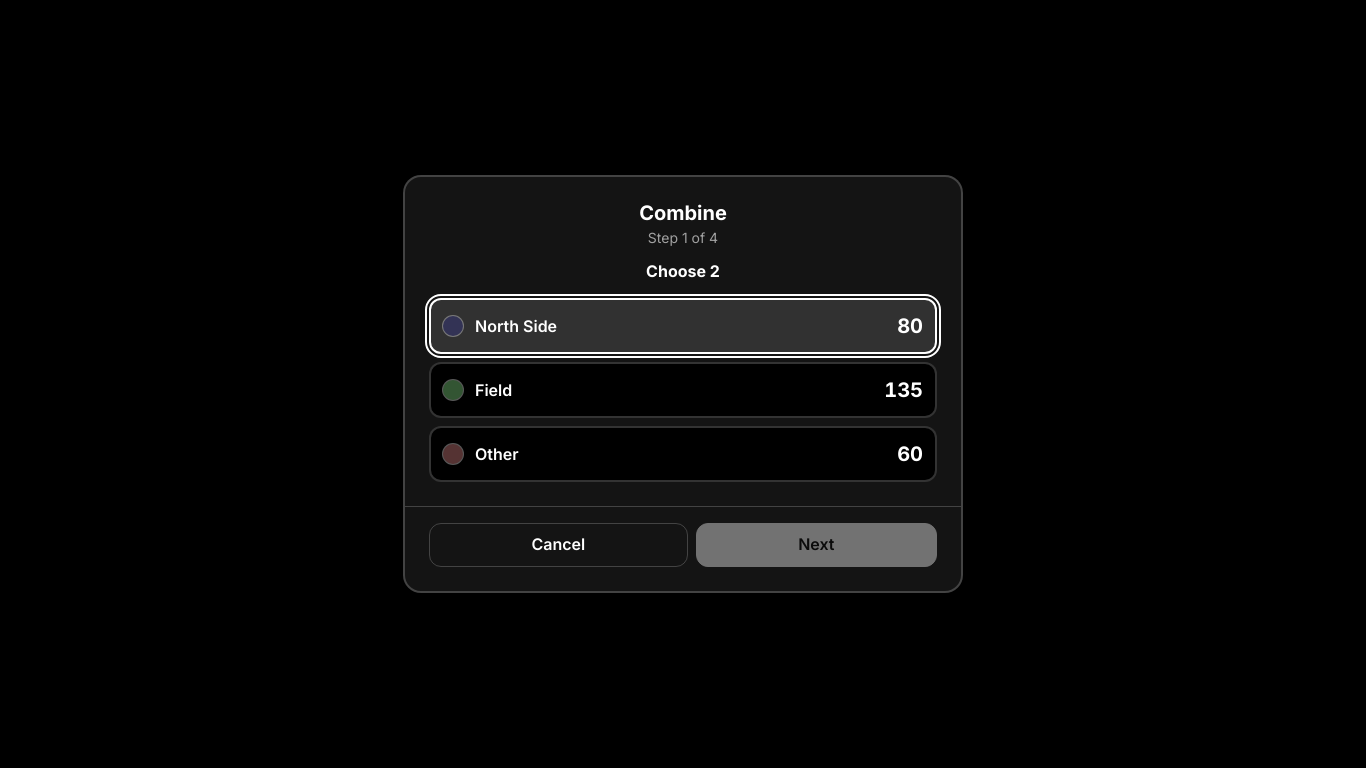
Test case: CombineEntriesSheet › names the target with the sources as its lineage, in order, and swaps the source order
Click the button "Field 135" at point(494, 390), box [429, 362, 937, 418]
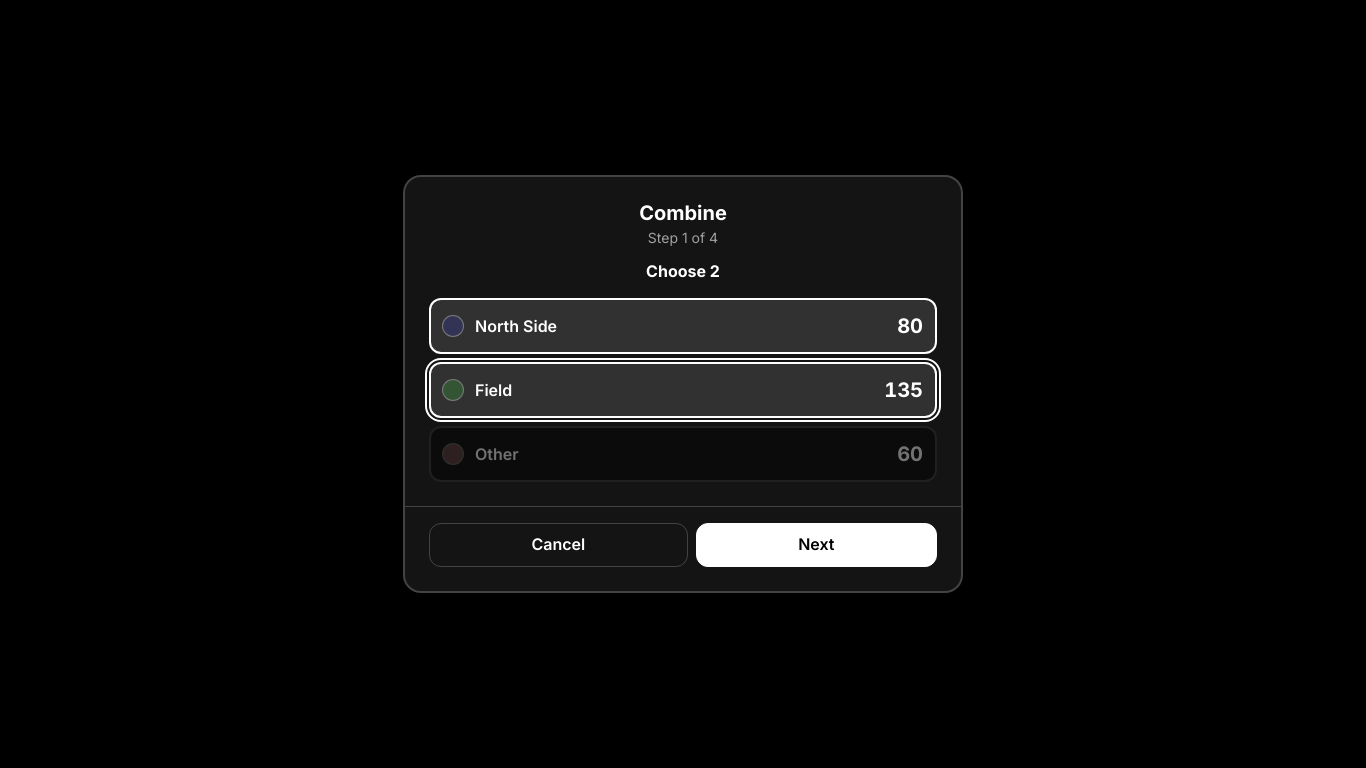
Click the button "Next" at point(816, 545), box [696, 523, 937, 567]
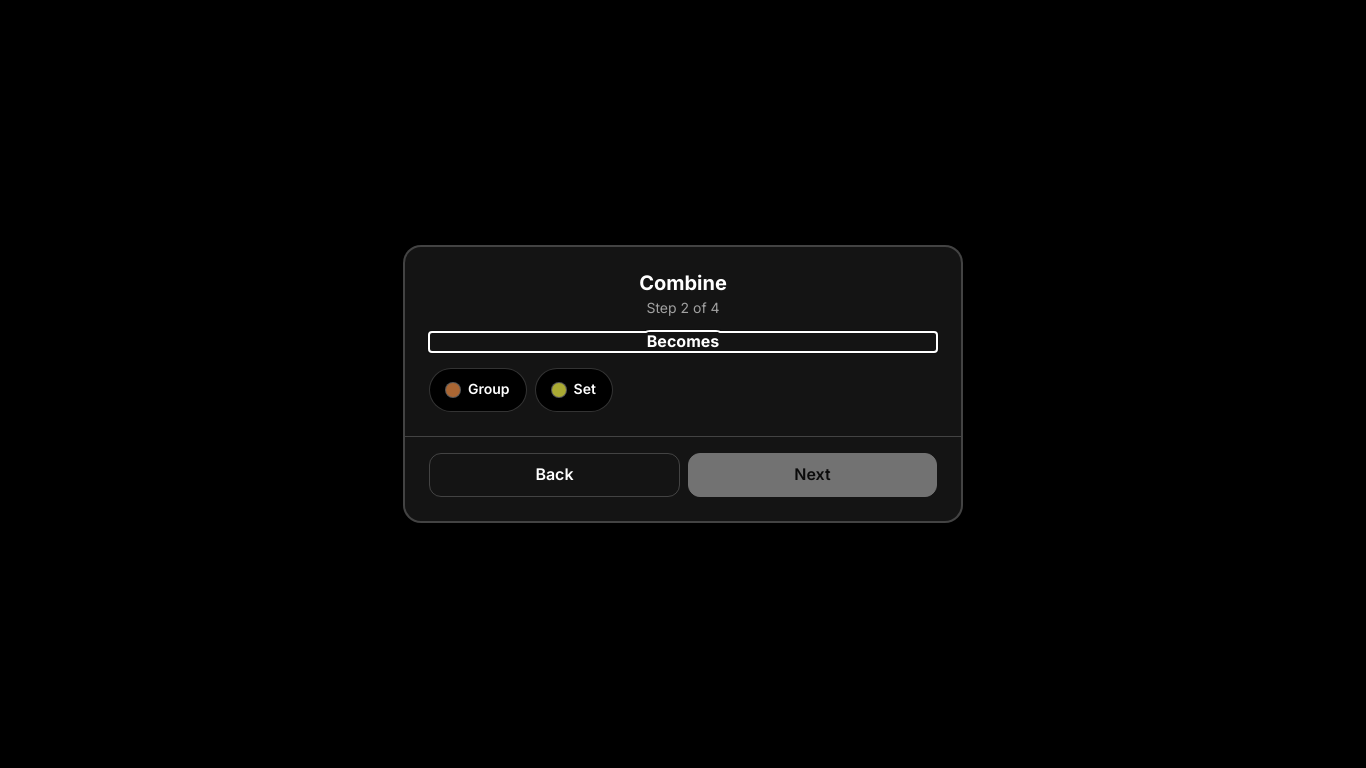
Click the button "Group" at point(478, 390), box [429, 368, 527, 412]
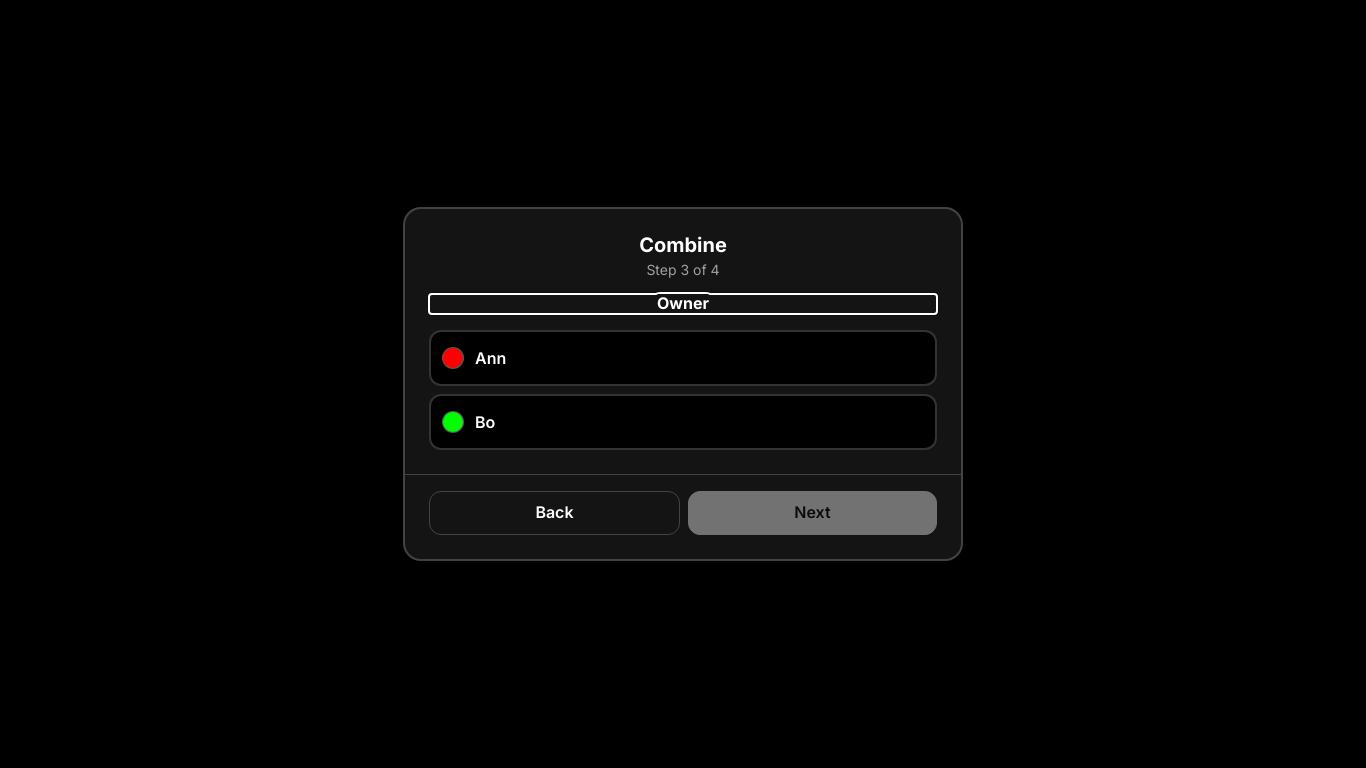
Click the button "Ann" at point(491, 358), box [429, 330, 937, 386]
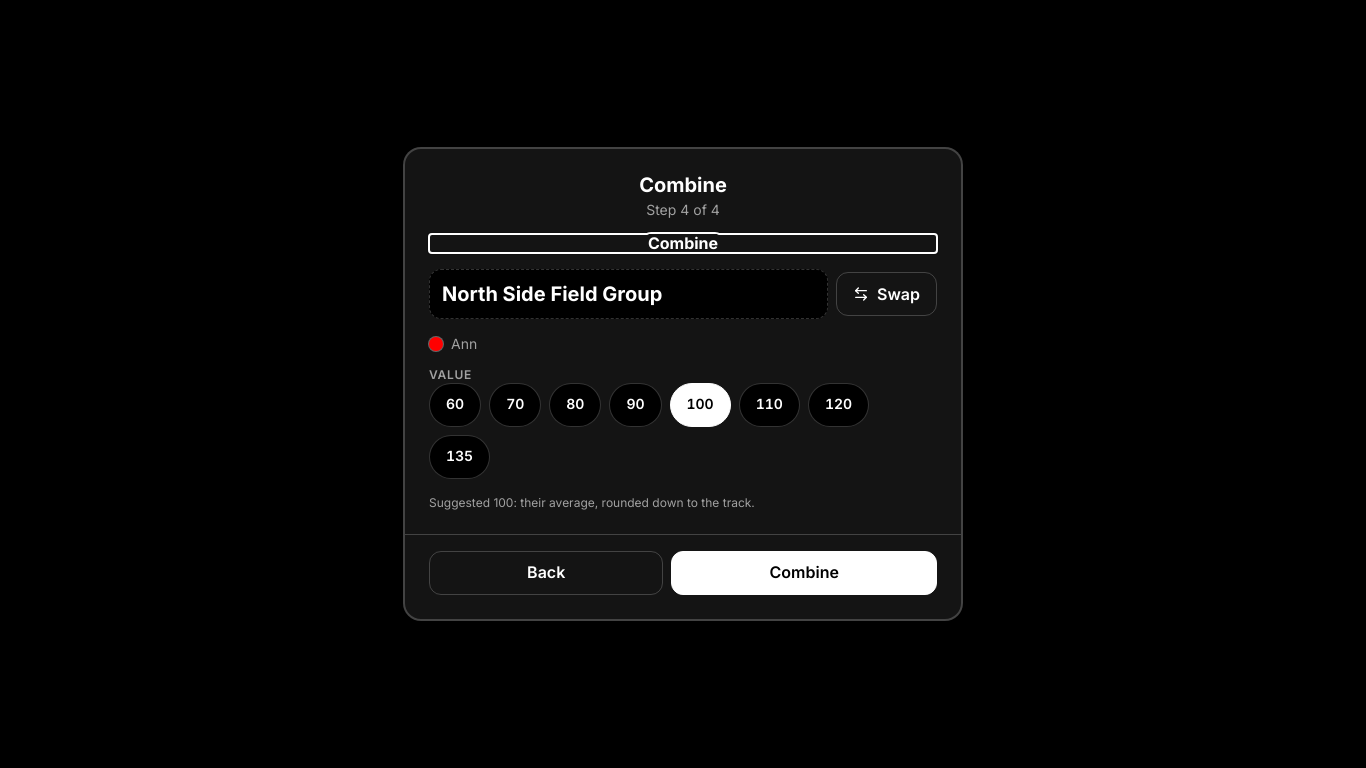
Now the element showing "North Side Field Group" is shown, box [429, 269, 828, 319]
Click the button with aria-label "Swap name order" at point(886, 294), box [836, 272, 937, 316]
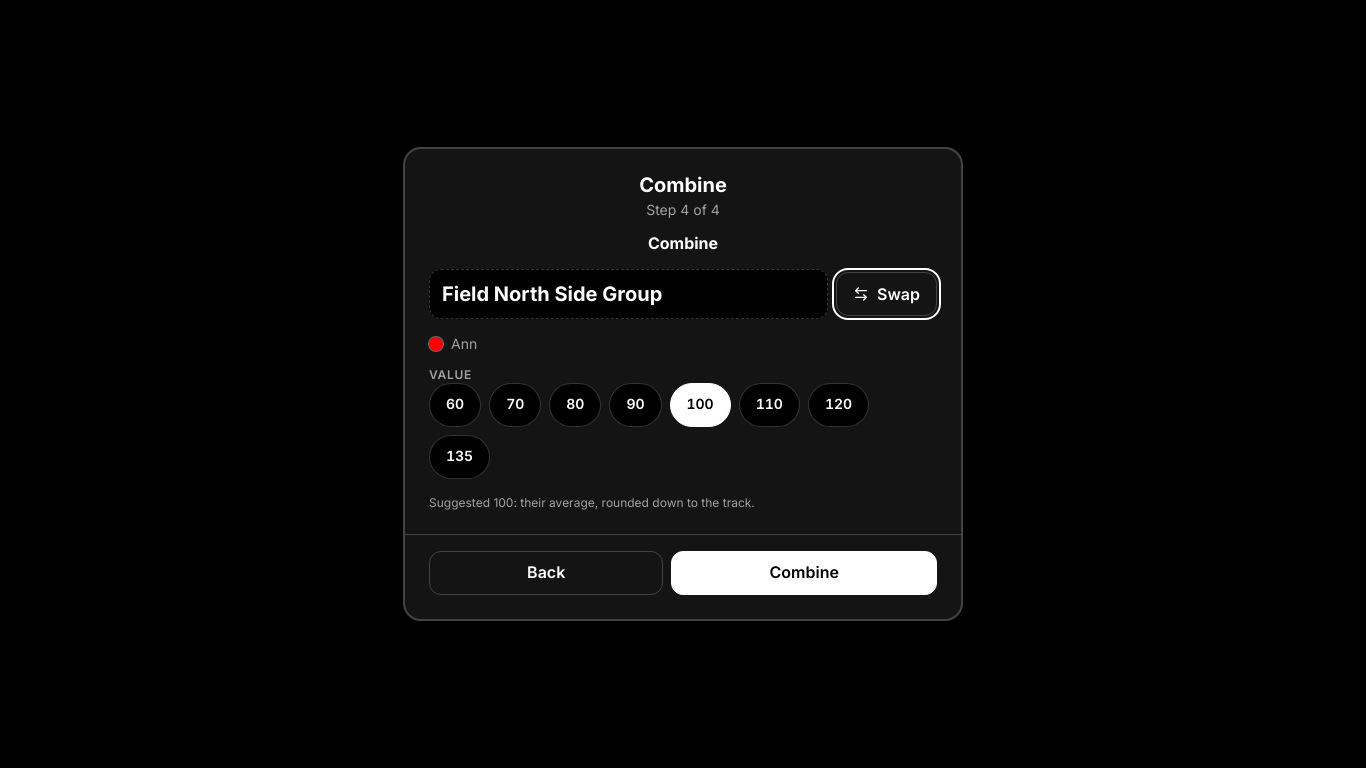
Now the element showing "Field North Side Group" is shown, box [429, 269, 828, 319]
